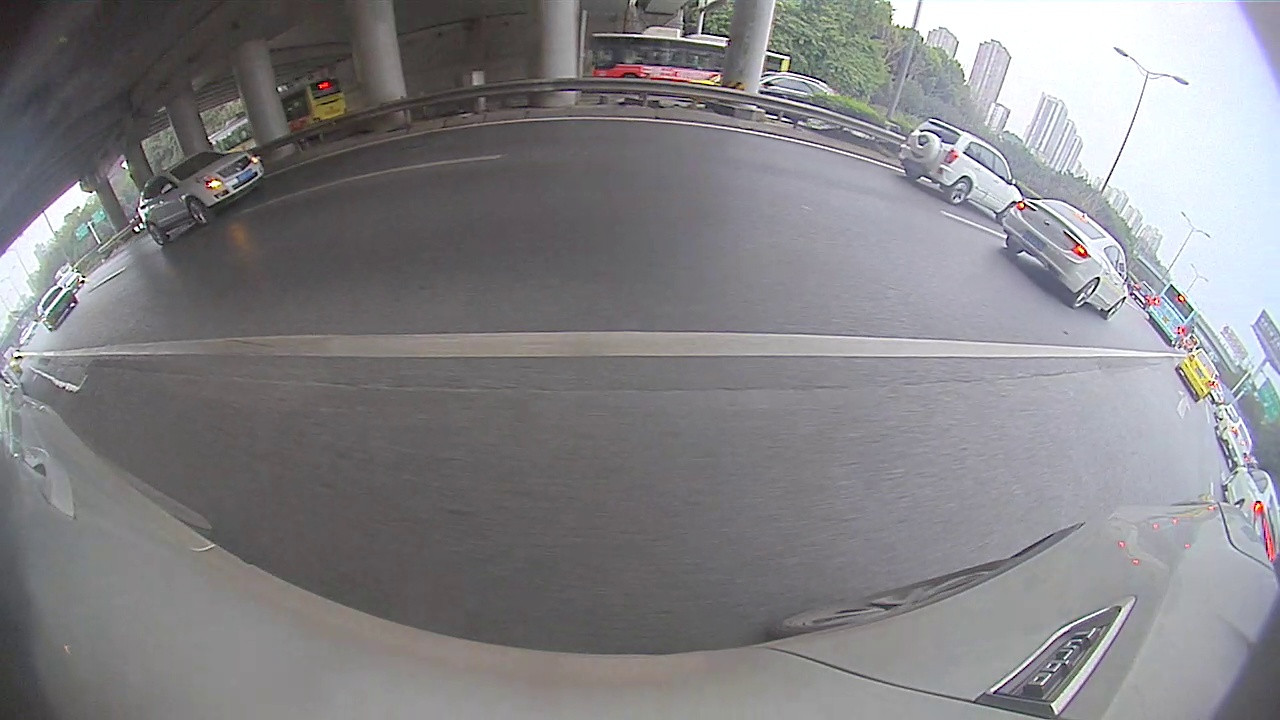bus: (591, 28, 788, 91), (207, 79, 352, 155), (1149, 283, 1194, 346)
car: (997, 199, 1132, 318), (903, 116, 1023, 220), (139, 148, 263, 243), (1225, 464, 1277, 560), (1180, 350, 1220, 401), (37, 289, 76, 330)
front: (186, 199, 213, 228), (1104, 298, 1126, 320), (999, 202, 1018, 224)
rear: (1071, 279, 1101, 308), (947, 176, 971, 207), (147, 223, 167, 248)
